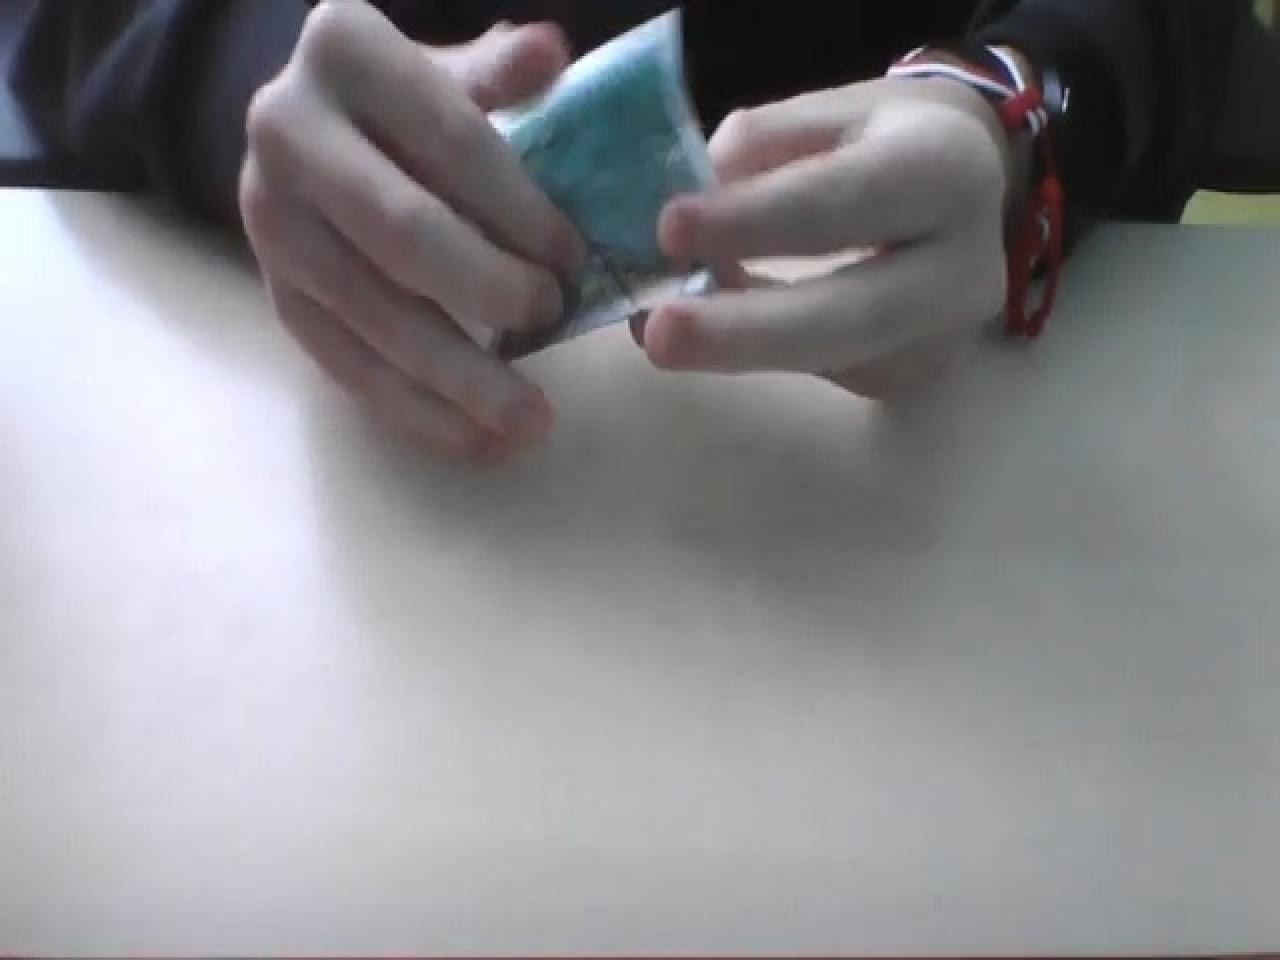100leva: (480, 5, 724, 363)
